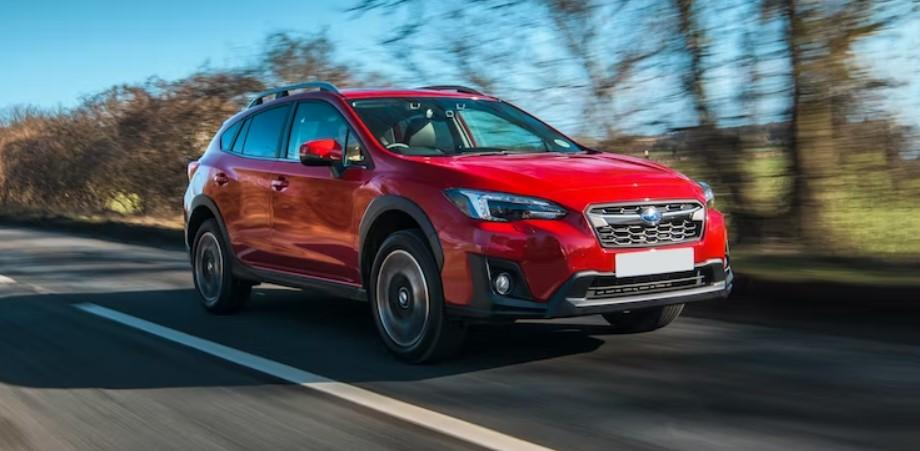subaru: (639, 206, 665, 229)
